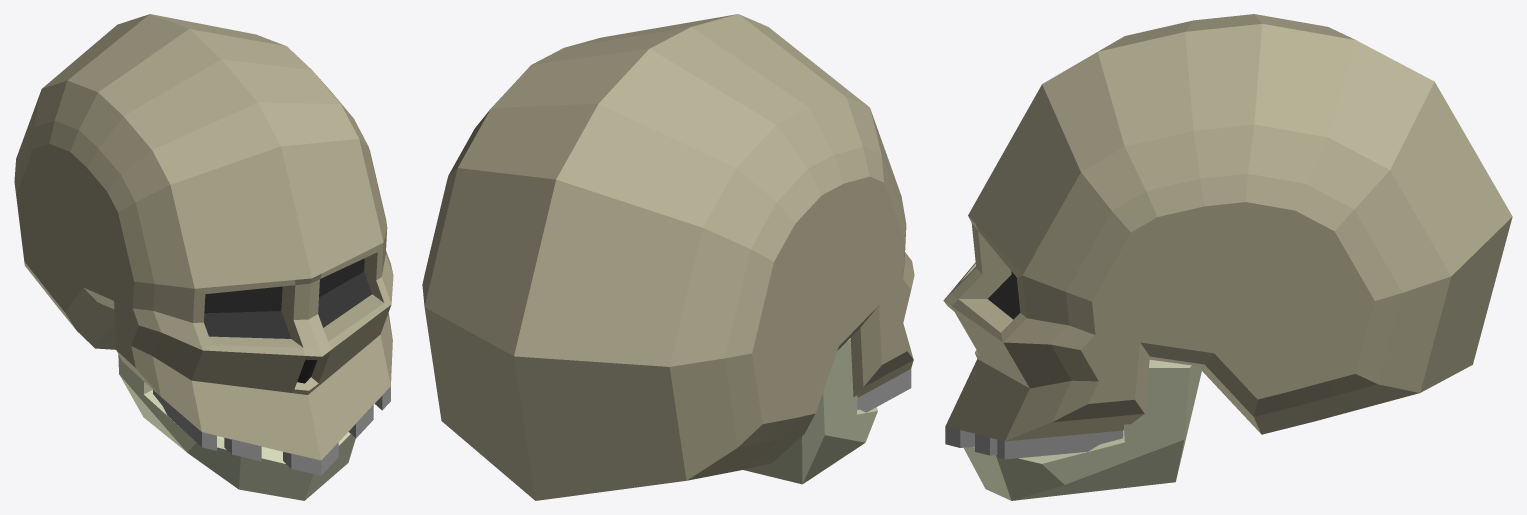
The model's file is Skull.fbx.
3 renders of one model, left to right at view 1: azimuth 30°, elevation 25°; view 2: azimuth 150°, elevation 25°; view 3: azimuth 270°, elevation 25°, orthographic. The views are drawn at different scales.
Parts seen in each view (by area): view 1: Cube, Cube.001, Cube.002; view 2: Cube, Cube.001, Cube.002; view 3: Cube, Cube.001, Cube.002.
Part boxes in pixels (x1,y1,x2,y2): Cube: [14, 14, 393, 460]; Cube.001: [118, 354, 355, 500]; Cube.002: [153, 386, 390, 475]; Cube: [422, 14, 914, 500]; Cube.001: [743, 338, 877, 484]; Cube.002: [857, 369, 911, 412]; Cube: [943, 14, 1512, 441]; Cube.001: [964, 359, 1201, 500]; Cube.002: [945, 426, 1122, 459].
Bounding box in the file's own units: 144 × 211 × 234.
